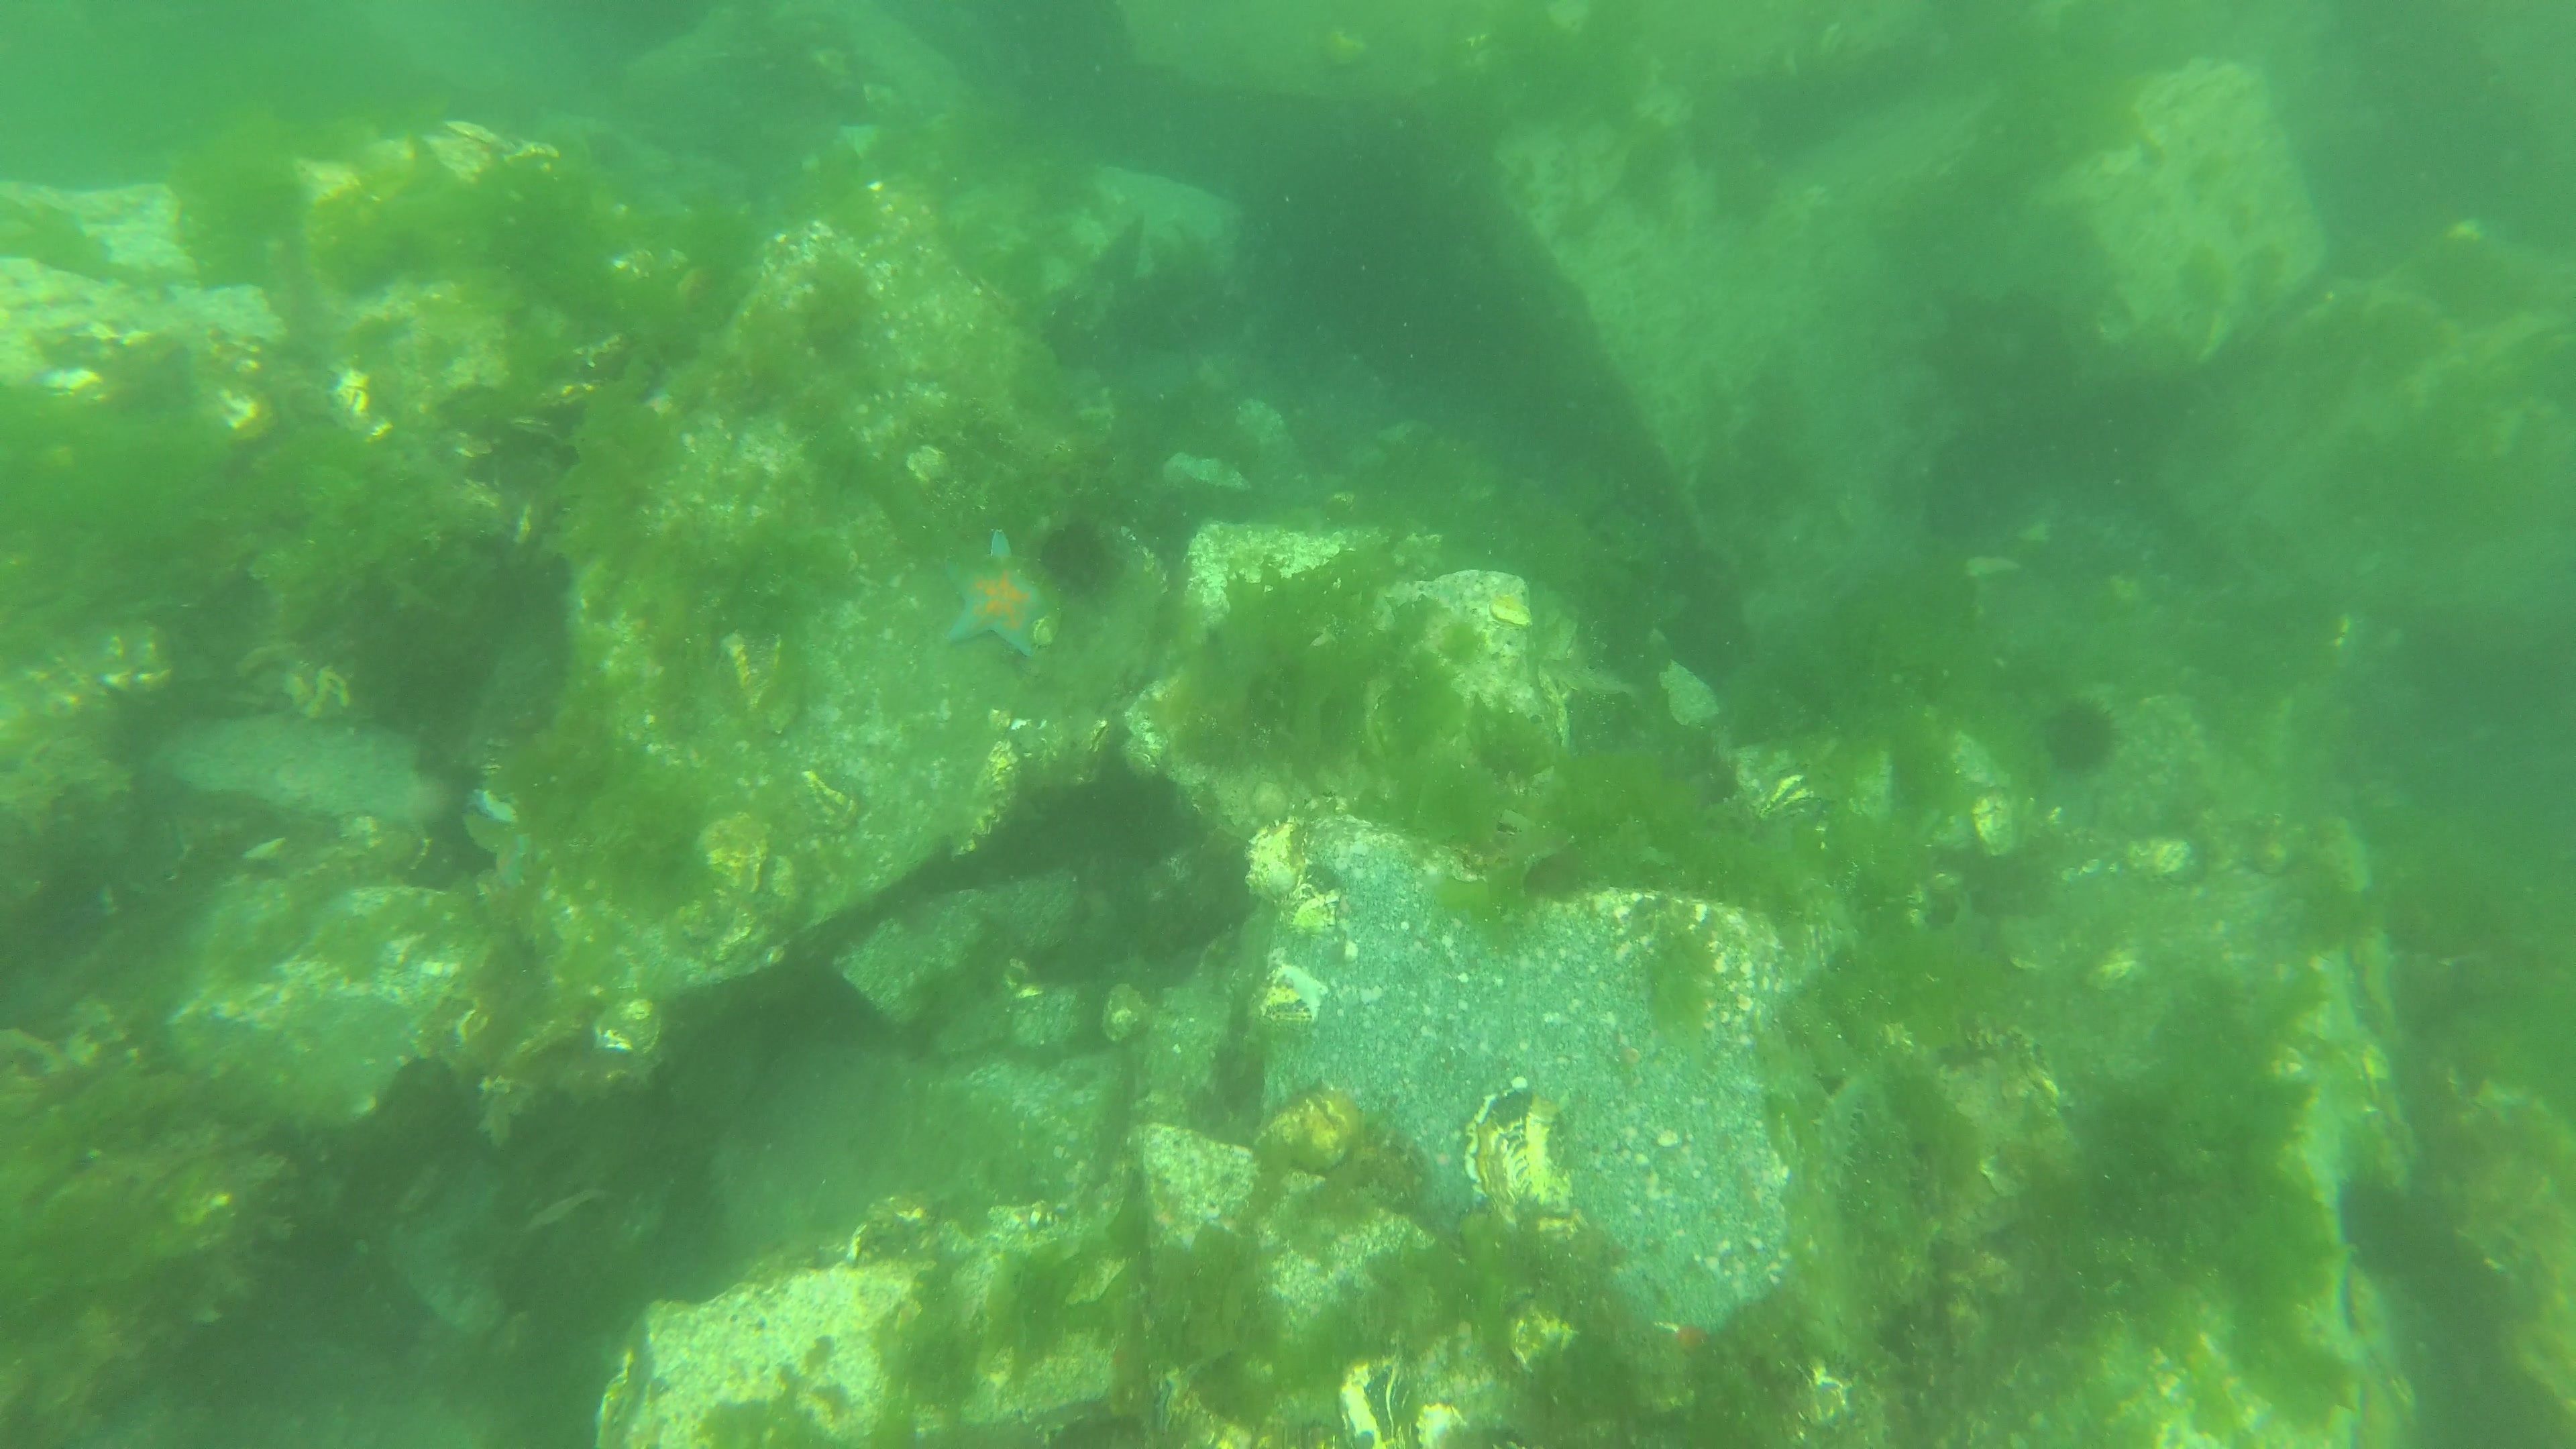echinus: (2328, 1161, 2429, 1276), (2033, 686, 2128, 782)
starfish: (936, 527, 1063, 663)
